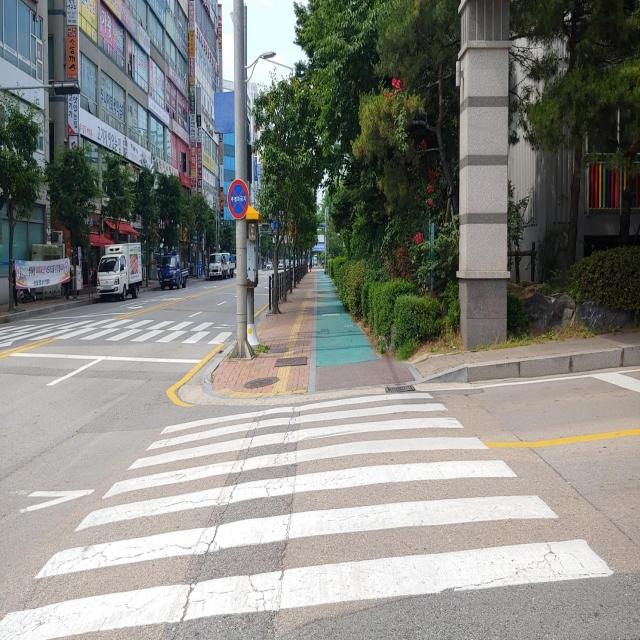횡단보도: (0, 388, 616, 640), (0, 308, 225, 352)
